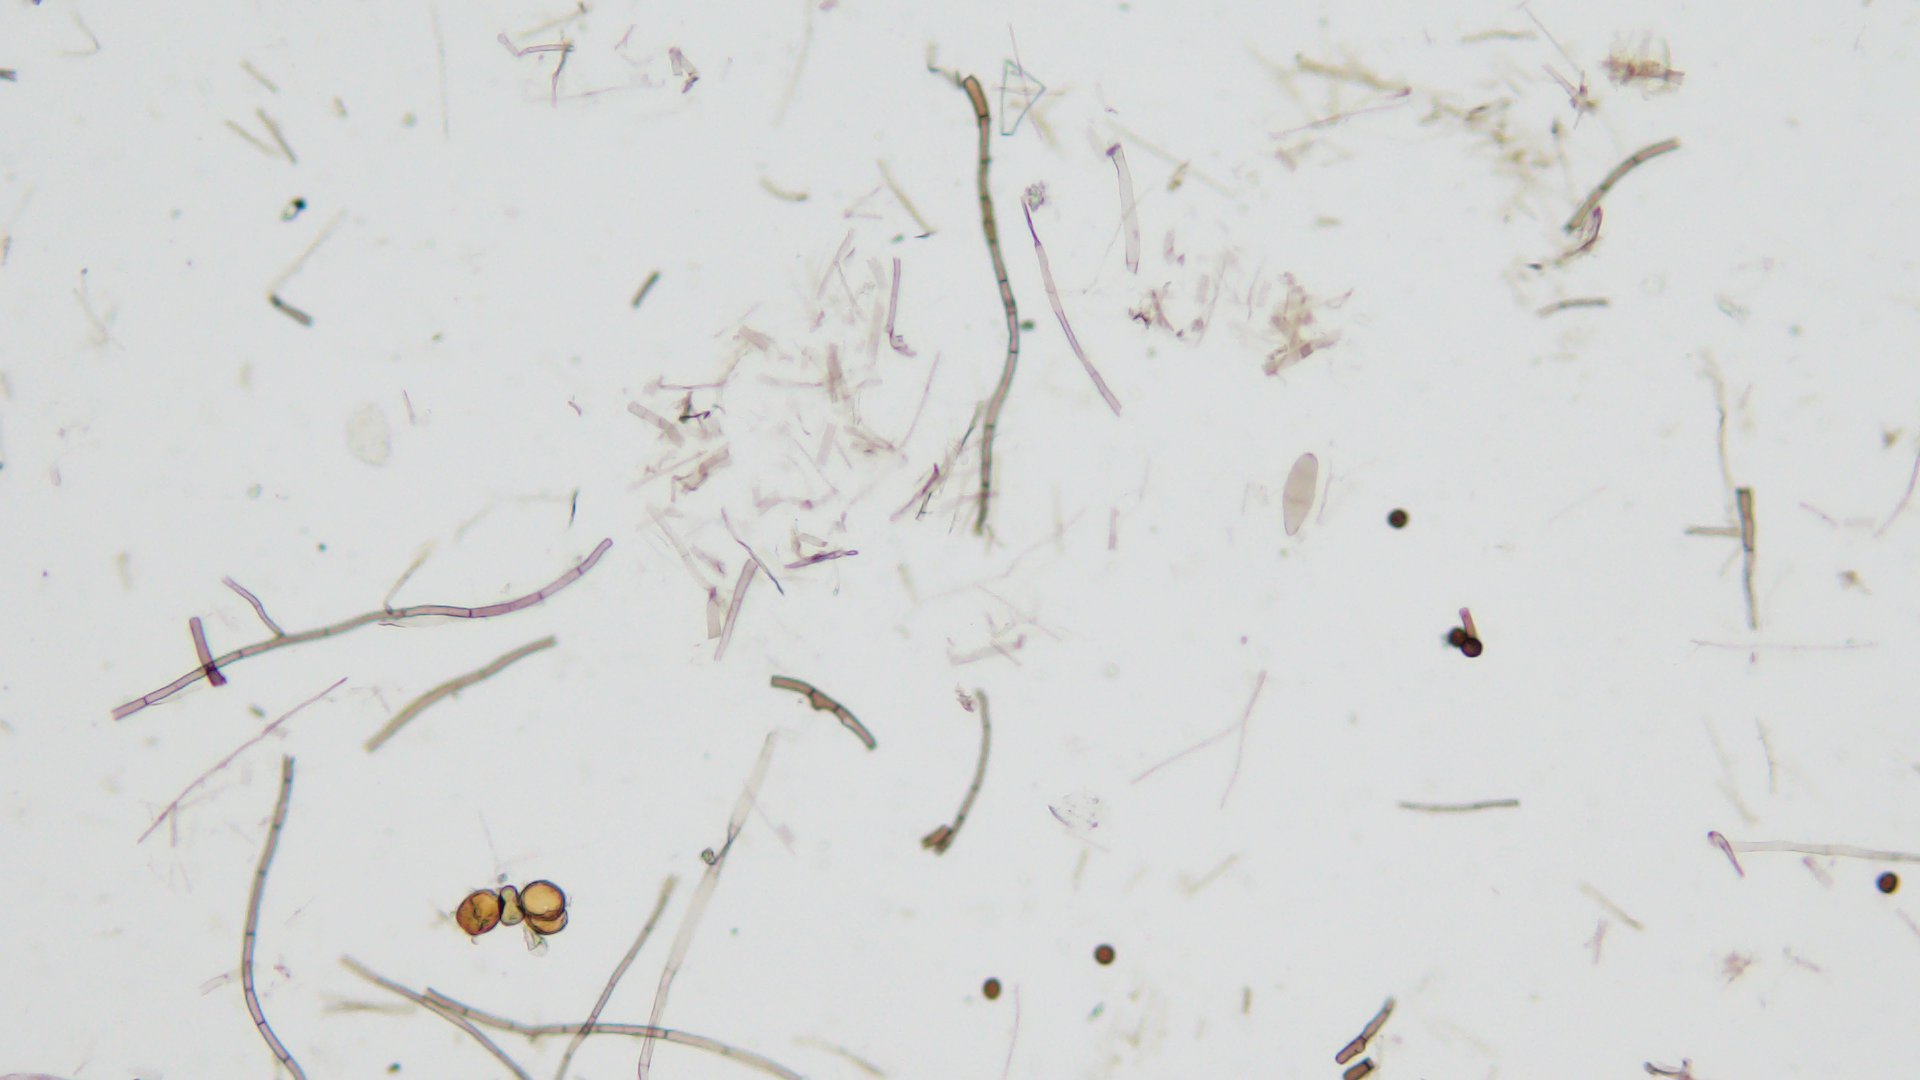dbb_spore: (1282, 450, 1317, 537)
shs_spore: (1876, 870, 1900, 894), (1386, 506, 1408, 529), (1447, 626, 1466, 646), (1095, 945, 1116, 964), (982, 978, 1000, 1000), (1465, 640, 1482, 659)
xb_spore: (520, 884, 567, 931), (459, 891, 498, 935), (496, 887, 526, 924)
